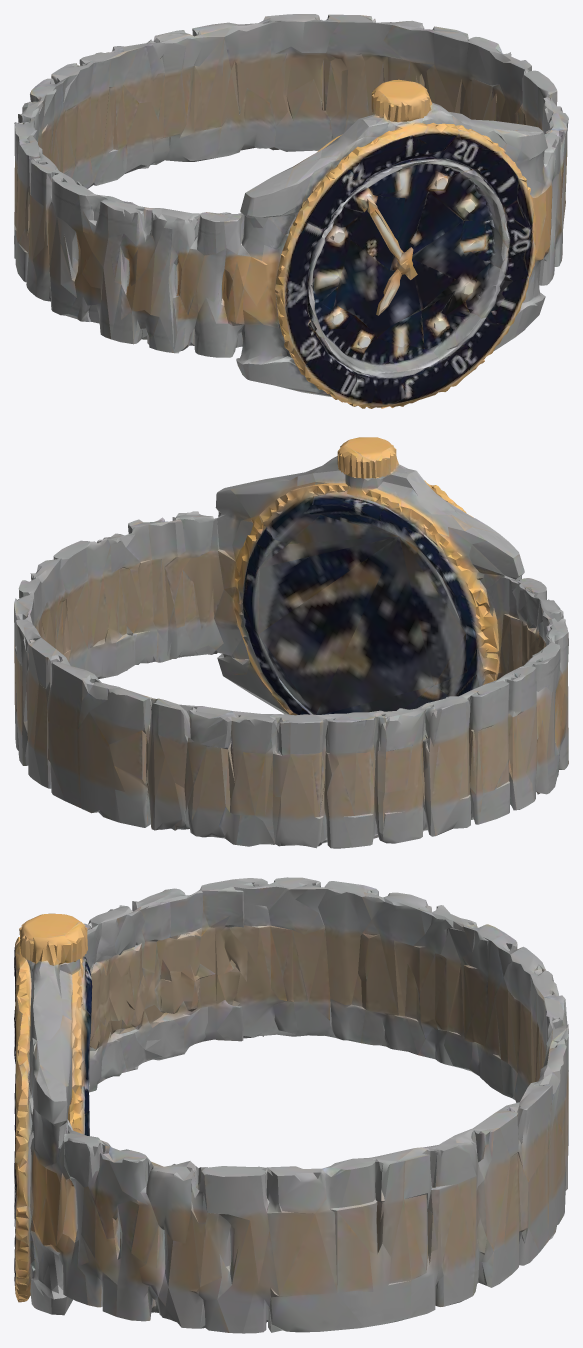
Rendered from uhr.glb.
3 views of the same model, one above another, from view 1: azimuth 30°, elevation 25°; view 2: azimuth 150°, elevation 25°; view 3: azimuth 270°, elevation 25° (orthographic). The views are drawn at different scales.
Visible parts, largest first — view 1: output_unwrapped; view 2: output_unwrapped; view 3: output_unwrapped.
Part boxes in pixels (x1,y1,x2,y2): output_unwrapped: (14, 14, 568, 408); output_unwrapped: (14, 437, 568, 848); output_unwrapped: (14, 877, 568, 1333).
Size of the model in its own units: 1.9 by 1.15 by 1.55.
1 material, 1 textured.
